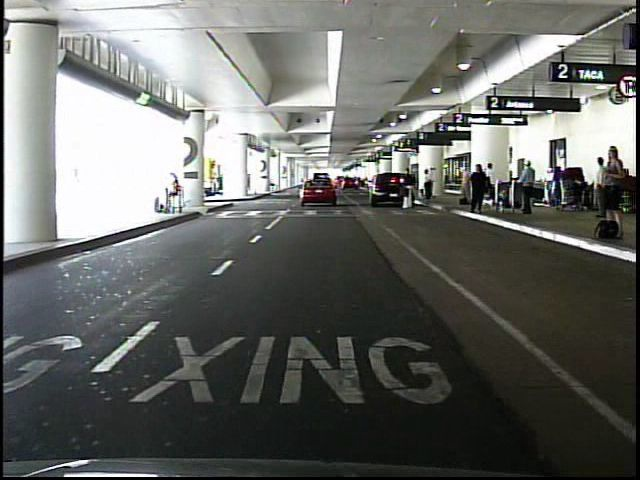person: (600, 145, 625, 221), (520, 159, 537, 216), (468, 161, 486, 213), (165, 172, 185, 218), (593, 157, 608, 218), (403, 168, 415, 213), (541, 167, 555, 205), (484, 162, 495, 203), (424, 168, 435, 202)
